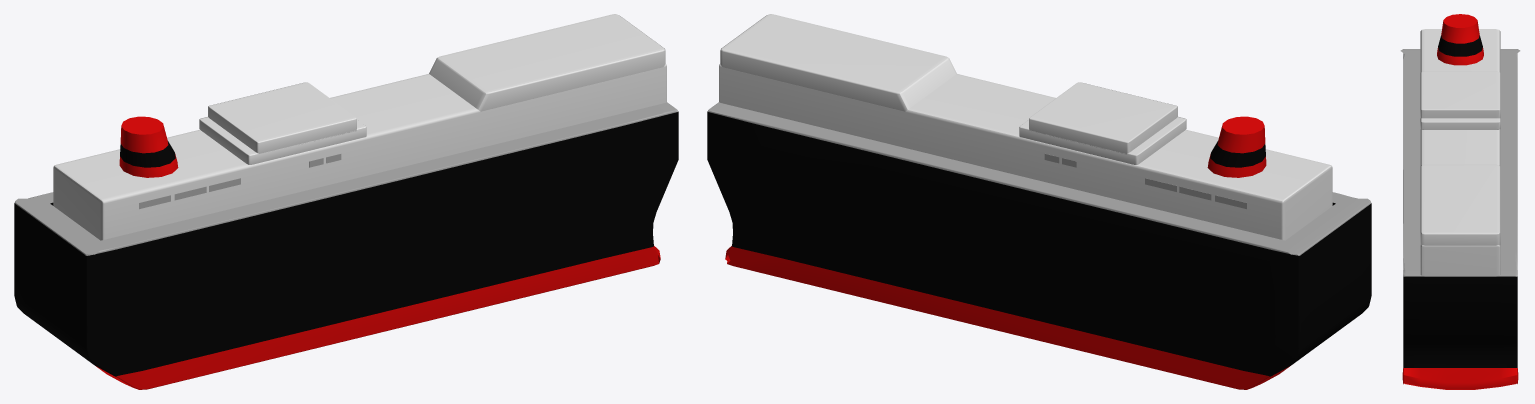
File: Ship_4.fbx
3 views of the same model, side by side, from view 1: azimuth 30°, elevation 25°; view 2: azimuth 150°, elevation 25°; view 3: azimuth 270°, elevation 25° (orthographic). The views are drawn at different scales.
Visible parts, largest first — view 1: Ship_4; view 2: Ship_4; view 3: Ship_4.
Boxes of the visible parts, x1,y1,x2,y2 form: Ship_4: (14,14,678,389); Ship_4: (707,14,1371,389); Ship_4: (1400,14,1520,389).
Size of the model in its own units: 7.78 by 2.98 by 1.74.
